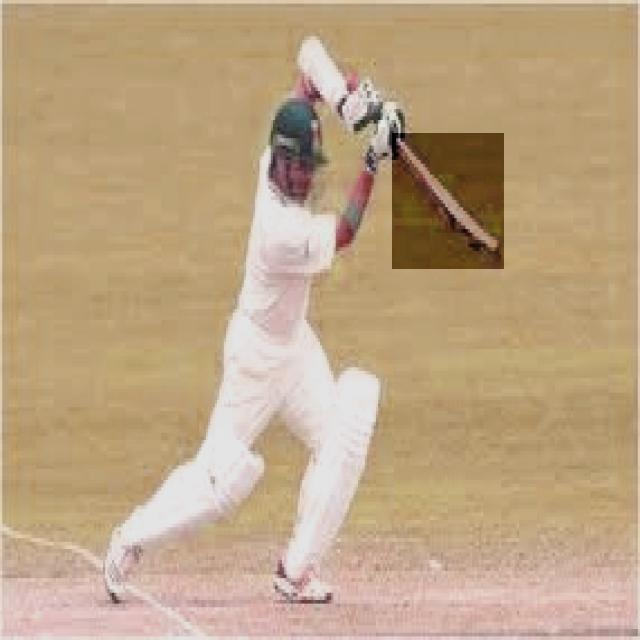bat: (390, 133, 505, 272)
toe: (480, 240, 503, 269)
